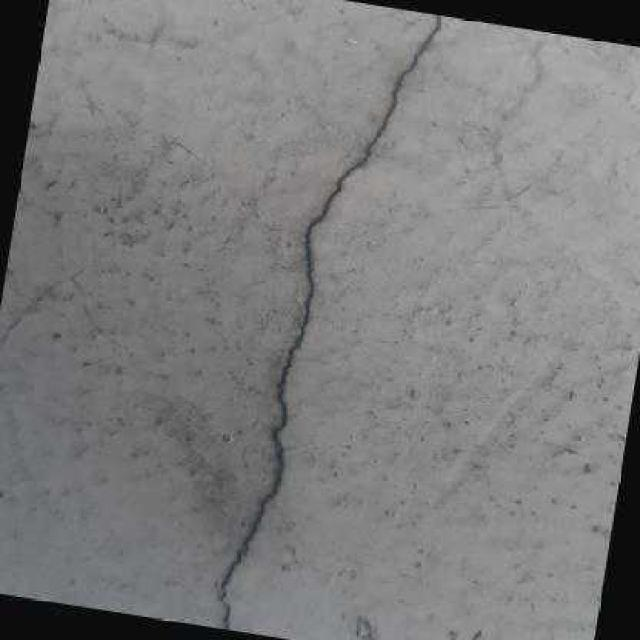D00: (213, 14, 441, 629)
